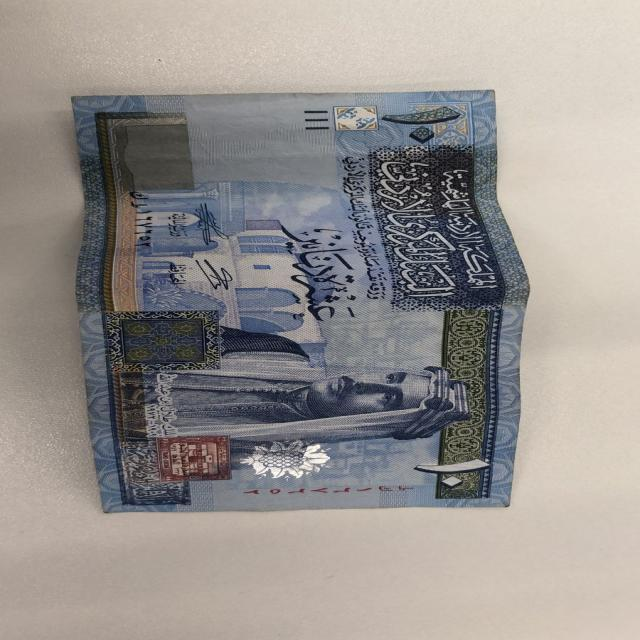10-dinar: (71, 90, 532, 514)
